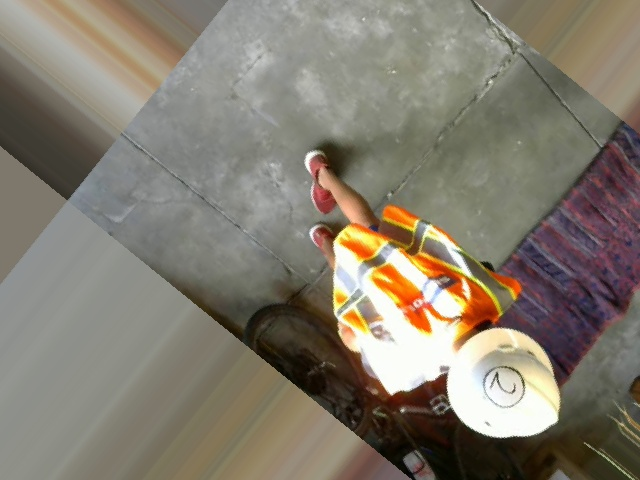two: (475, 357, 533, 415)
